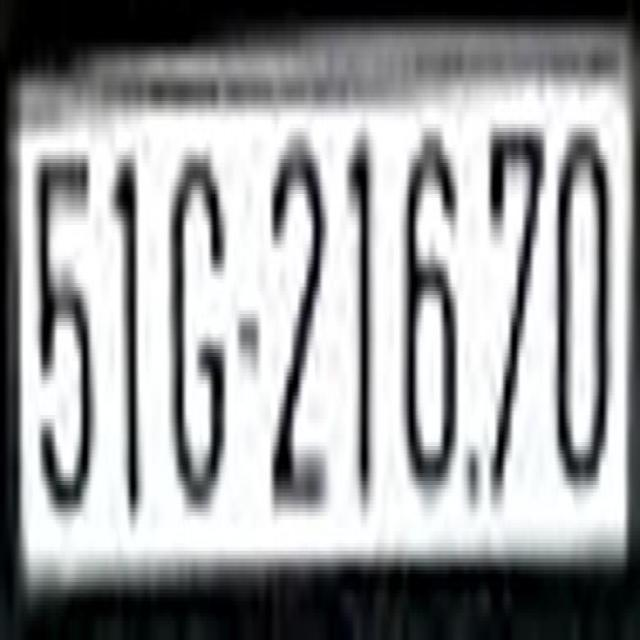0: (554, 93, 608, 493)
1: (346, 128, 379, 524), (112, 148, 140, 540)
2: (266, 124, 334, 535)
5: (36, 143, 94, 516)
6: (397, 82, 458, 504)
7: (485, 97, 544, 512)
G: (166, 120, 225, 543)
